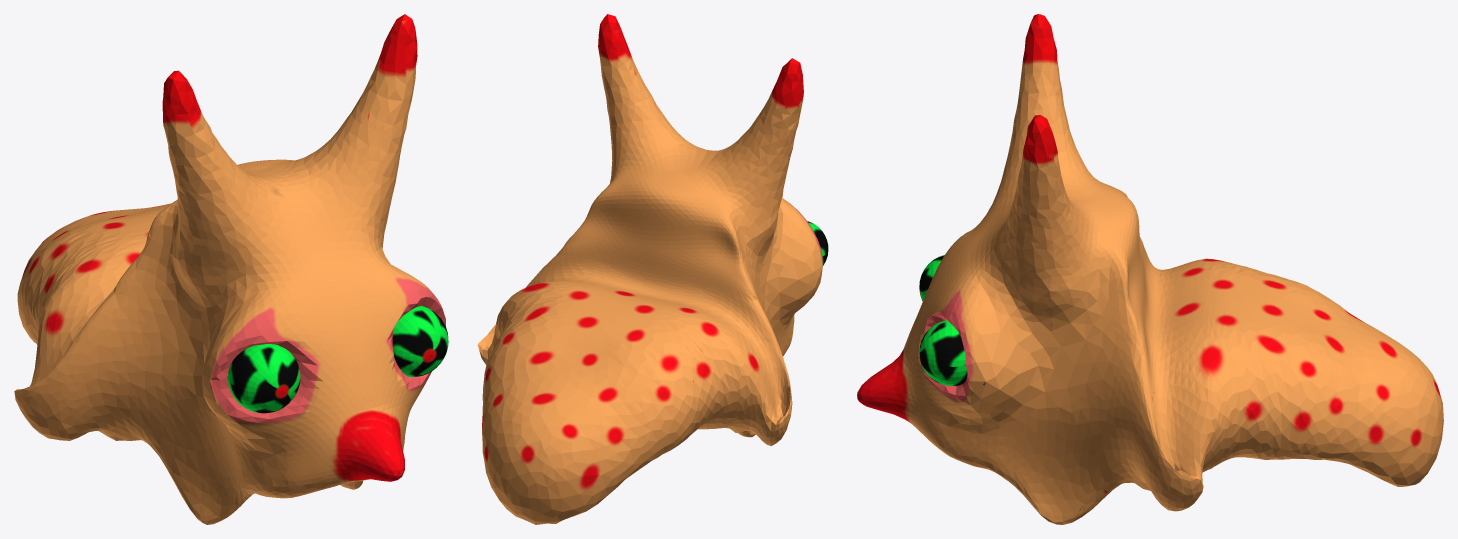
Rendered from slug.fbx.
3 renders of one model, left to right at view 1: azimuth 30°, elevation 25°; view 2: azimuth 150°, elevation 25°; view 3: azimuth 270°, elevation 25°, orthographic. The views are drawn at different scales.
Visible parts, largest first — view 1: Icosphere, Sphere; view 2: Icosphere; view 3: Icosphere, Sphere.
Boxes of the visible parts, left/top/right/bottom form: Icosphere: left=14, top=14, right=445, bottom=524; Sphere: left=227, top=305, right=448, bottom=413; Icosphere: left=477, top=14, right=822, bottom=524; Icosphere: left=857, top=14, right=1443, bottom=524; Sphere: left=919, top=255, right=967, bottom=385.
Size of the model in its own units: 196 by 231 by 287.
